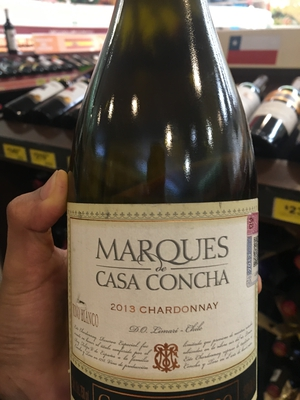marques de casa concha chardonnay: (67, 17, 259, 394)
